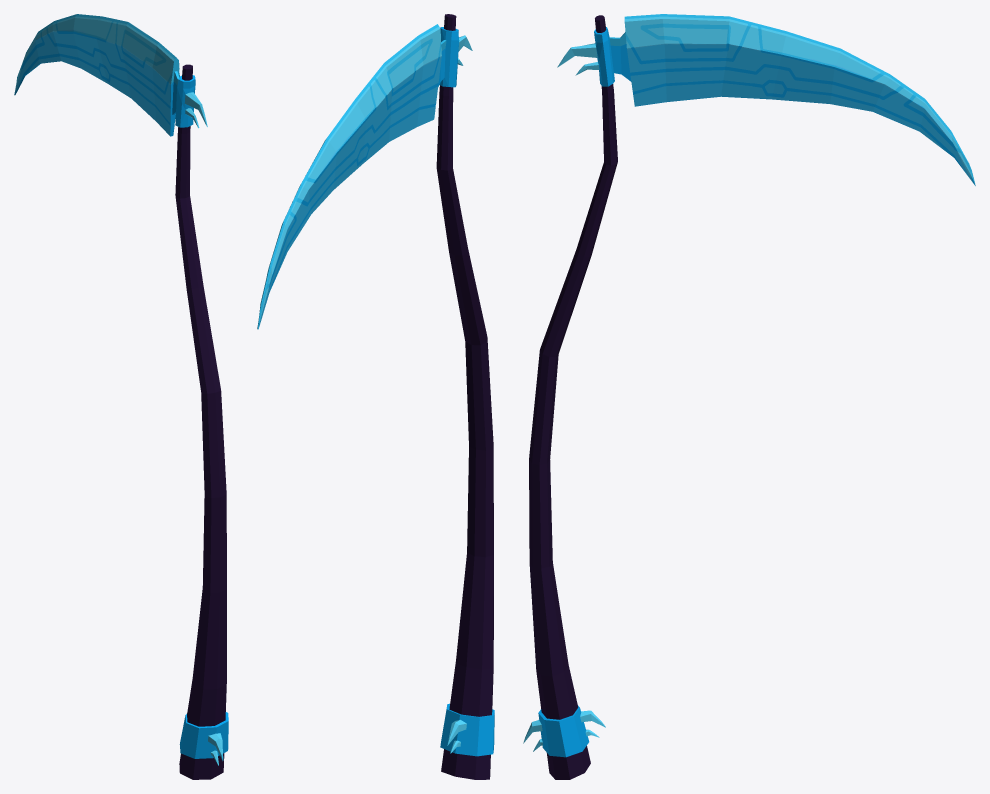
File: Scythe.fbx
3 renders of one model, left to right at view 1: azimuth 30°, elevation 25°; view 2: azimuth 150°, elevation 25°; view 3: azimuth 270°, elevation 25°, orthographic. The views are drawn at different scales.
Visible parts, largest first — view 1: Scythe; view 2: Scythe; view 3: Scythe.
Boxes of the visible parts, box(x1,y1,x2,y2) form: Scythe: box(14, 14, 228, 779); Scythe: box(257, 14, 494, 779); Scythe: box(523, 14, 975, 779).
Size of the model in its own units: 37.02 by 527 by 285.
